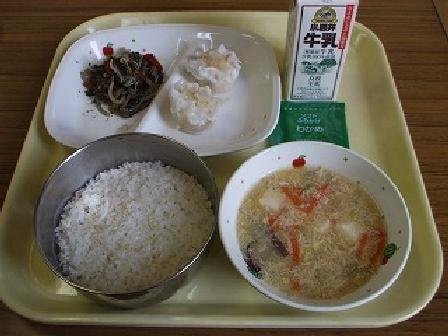Milk: (278, 0, 359, 105)
Rice: (37, 131, 221, 308), (167, 37, 248, 129)
Soups: (226, 142, 404, 302)
salad with sauce: (63, 28, 165, 121)
